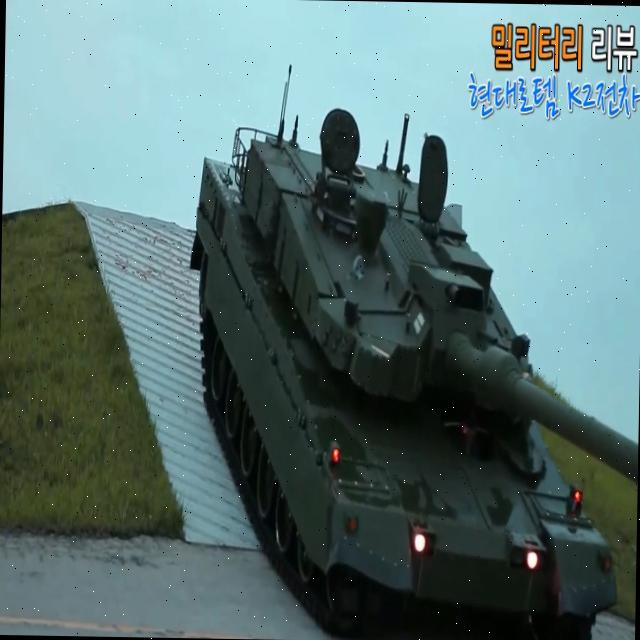korea tank: (180, 59, 640, 640)
